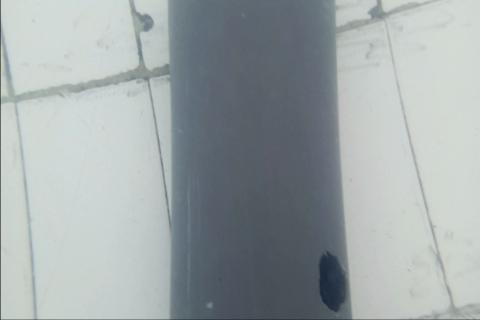kebocoran: (316, 248, 348, 314)
